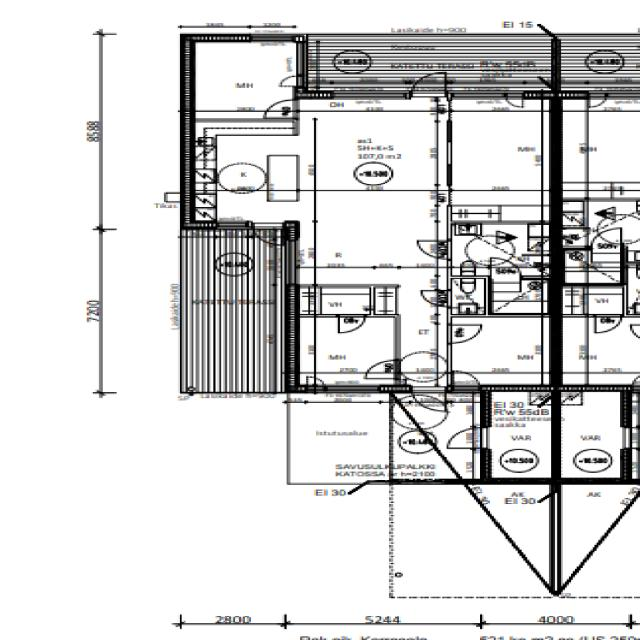door: (408, 70, 452, 102), (444, 426, 487, 451), (399, 351, 443, 374), (409, 389, 446, 414), (260, 98, 298, 119), (450, 323, 482, 343), (594, 226, 625, 245), (416, 240, 447, 258), (336, 315, 366, 333), (594, 316, 623, 334), (450, 372, 482, 388), (502, 91, 527, 110), (276, 74, 302, 89), (585, 93, 609, 109), (421, 290, 445, 305)
window: (326, 86, 411, 105), (450, 90, 513, 111), (321, 383, 385, 396), (618, 425, 636, 451), (442, 140, 456, 170), (250, 34, 294, 43)
zone: (306, 103, 444, 189), (446, 105, 549, 220), (286, 398, 395, 482), (188, 40, 298, 115), (191, 130, 304, 199), (450, 316, 551, 387), (299, 315, 400, 386), (566, 106, 640, 198), (563, 313, 640, 386), (560, 394, 627, 476), (451, 223, 549, 270), (484, 415, 555, 478), (566, 199, 640, 244), (488, 276, 546, 312), (317, 286, 372, 316), (452, 276, 489, 313)
